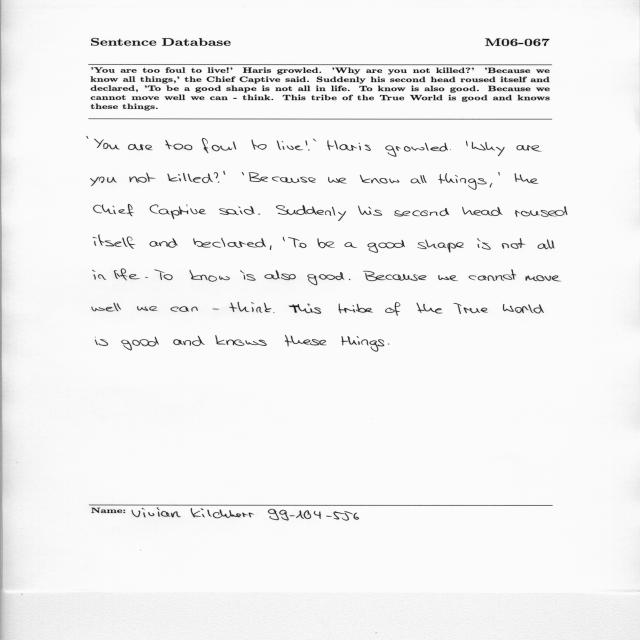word: (276, 205, 346, 221), (385, 143, 448, 157), (150, 205, 206, 220), (438, 173, 487, 190), (249, 172, 316, 183), (193, 238, 266, 248), (341, 336, 384, 352), (363, 271, 426, 281), (417, 240, 464, 253), (93, 235, 136, 249), (515, 206, 568, 217), (469, 269, 517, 281), (215, 335, 267, 346), (202, 138, 236, 153), (367, 240, 405, 253), (121, 337, 159, 350), (94, 204, 135, 216), (189, 270, 230, 282), (327, 140, 371, 151), (308, 272, 345, 285), (472, 142, 505, 156), (230, 302, 272, 313), (285, 336, 327, 347), (167, 173, 213, 183), (394, 208, 449, 216), (453, 303, 488, 314), (462, 207, 503, 216), (503, 304, 544, 313), (360, 175, 399, 184), (338, 304, 373, 314), (264, 270, 296, 280), (289, 304, 321, 314), (173, 336, 205, 346), (219, 206, 254, 215), (149, 238, 178, 248), (94, 139, 120, 150), (114, 269, 140, 280), (417, 303, 443, 314), (514, 173, 539, 184), (166, 140, 193, 150), (129, 173, 156, 183), (502, 238, 526, 249), (92, 303, 121, 312), (277, 141, 303, 151), (90, 177, 117, 186), (358, 206, 382, 216), (526, 276, 562, 282), (386, 302, 401, 316), (154, 270, 173, 281), (288, 237, 306, 248), (317, 238, 335, 248), (240, 270, 256, 281), (538, 240, 555, 250), (477, 238, 491, 250), (170, 306, 198, 312), (252, 139, 267, 150), (516, 145, 542, 151), (128, 144, 153, 150), (411, 175, 427, 184), (93, 270, 106, 280), (438, 275, 458, 281), (328, 177, 347, 183), (137, 306, 158, 311), (95, 339, 108, 346), (345, 242, 358, 248), (214, 172, 219, 183), (306, 140, 310, 151), (490, 183, 493, 187), (466, 141, 468, 146), (270, 245, 272, 250), (224, 171, 226, 175), (498, 172, 500, 176), (283, 237, 285, 241), (313, 139, 316, 141), (242, 172, 244, 175), (213, 309, 219, 310), (87, 136, 88, 139), (145, 277, 148, 278), (258, 214, 260, 215), (349, 279, 351, 280), (274, 312, 275, 313), (388, 344, 389, 345), (450, 150, 451, 150)
